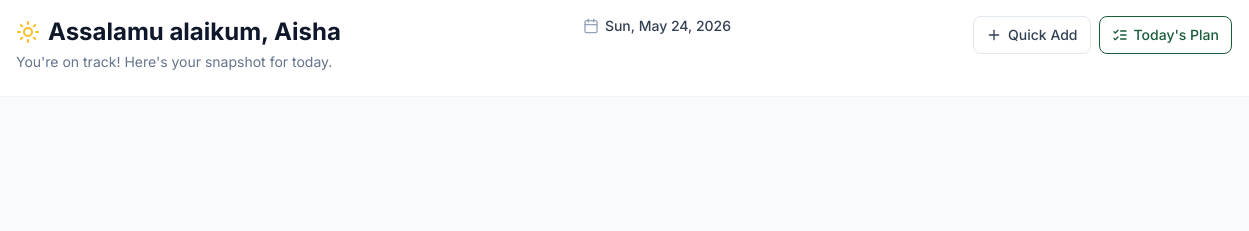
Test case: DashboardHeader › Quick Add menu closes after clicking a link
The width and height of the screenshot is (1249, 231).
Click the button "Quick Add" at point(1032, 35), box [973,16,1090,54]
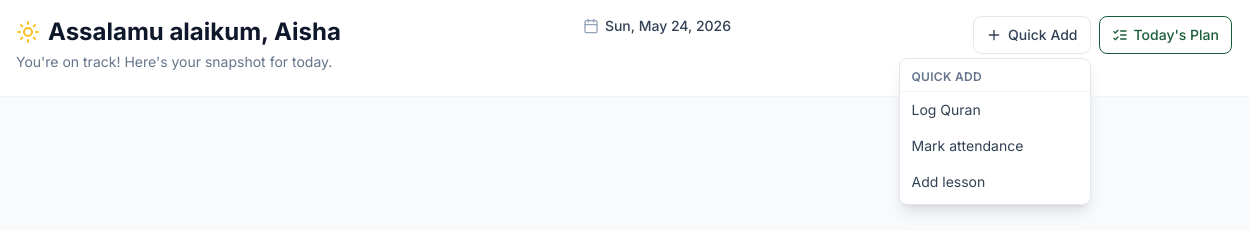
Click the menu item "Log Quran" at point(946, 110), box [912,101,981,118]
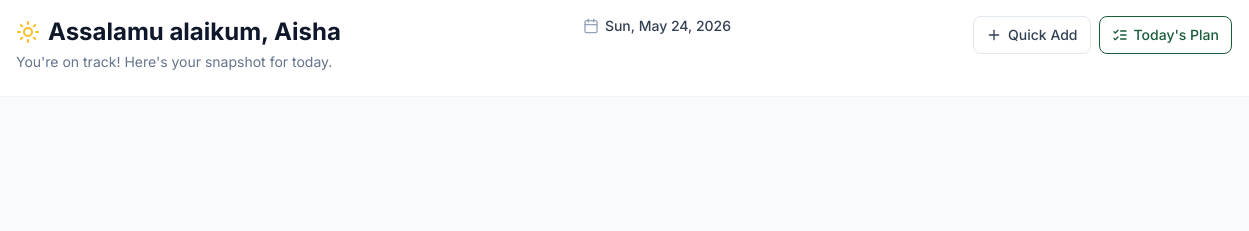
Expected: the menu with test id "quick-add-menu" is gone
